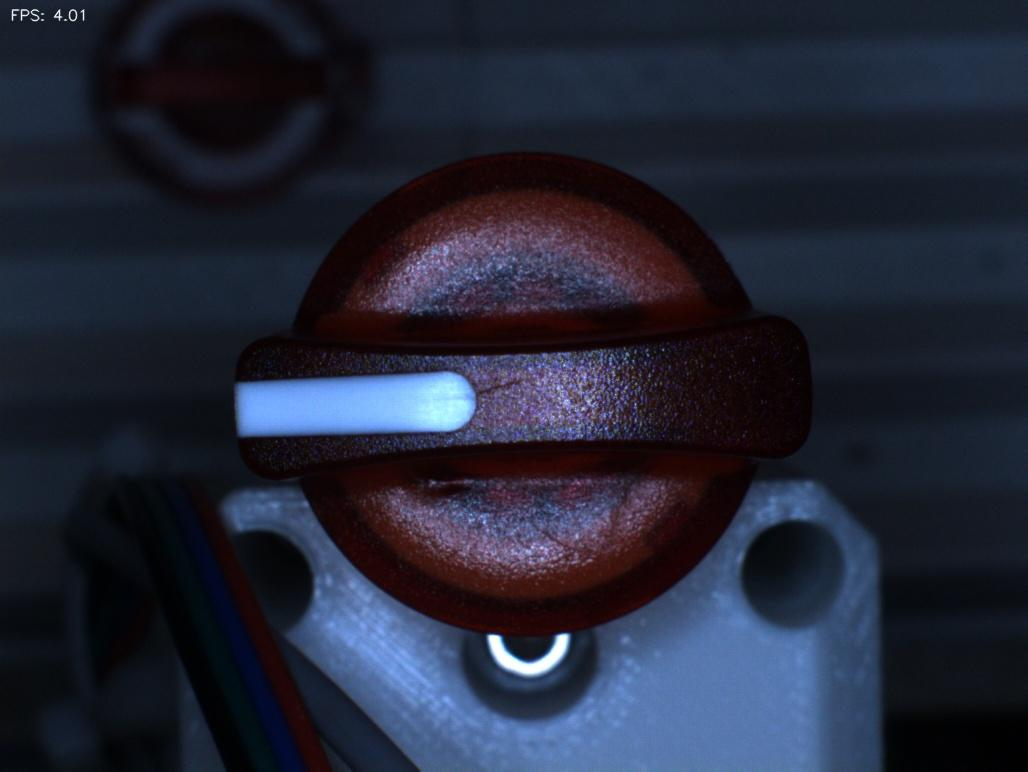Choc: (394, 457, 492, 518)
